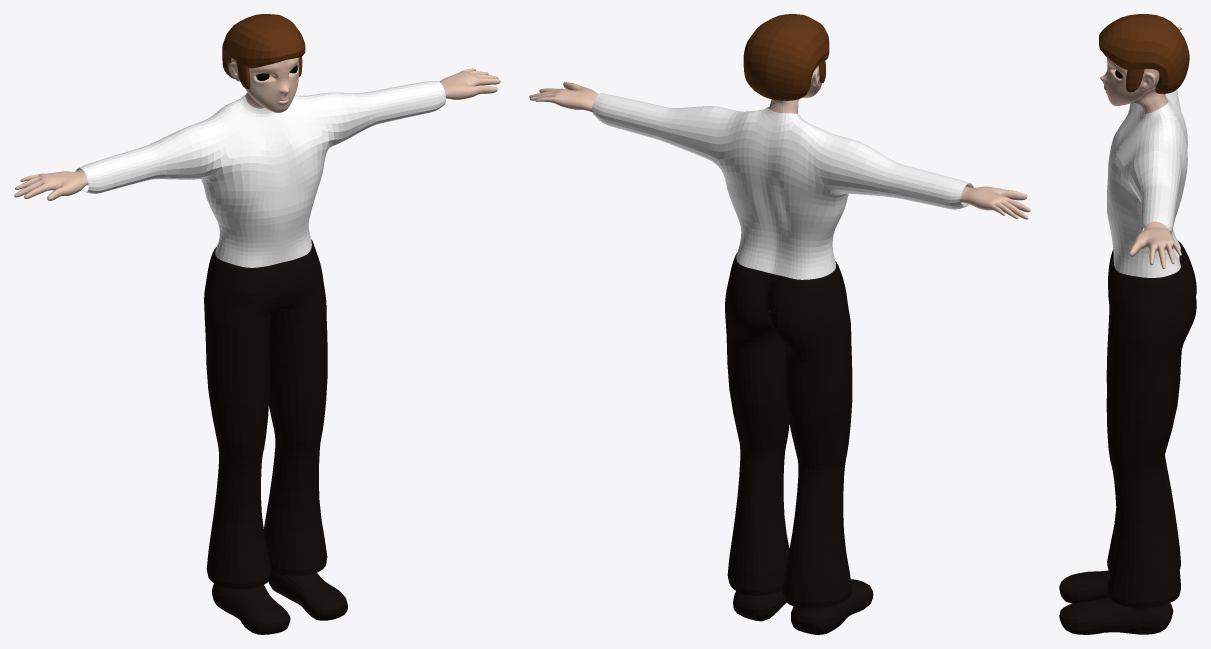
Rendered from Overkill_NPC_base _male.fbx.
3 views of the same model, side by side, from view 1: azimuth 30°, elevation 25°; view 2: azimuth 150°, elevation 25°; view 3: azimuth 270°, elevation 25° (orthographic). The views are drawn at different scales.
Parts seen in each view (by area): view 1: Overkill_male_NPC.003; view 2: Overkill_male_NPC.003; view 3: Overkill_male_NPC.003.
Part boxes in pixels (x1,y1,x2,y2): Overkill_male_NPC.003: (14, 14, 500, 634); Overkill_male_NPC.003: (529, 14, 1030, 634); Overkill_male_NPC.003: (1059, 14, 1196, 634).
Size of the model in its own units: 491 by 566 by 118.
